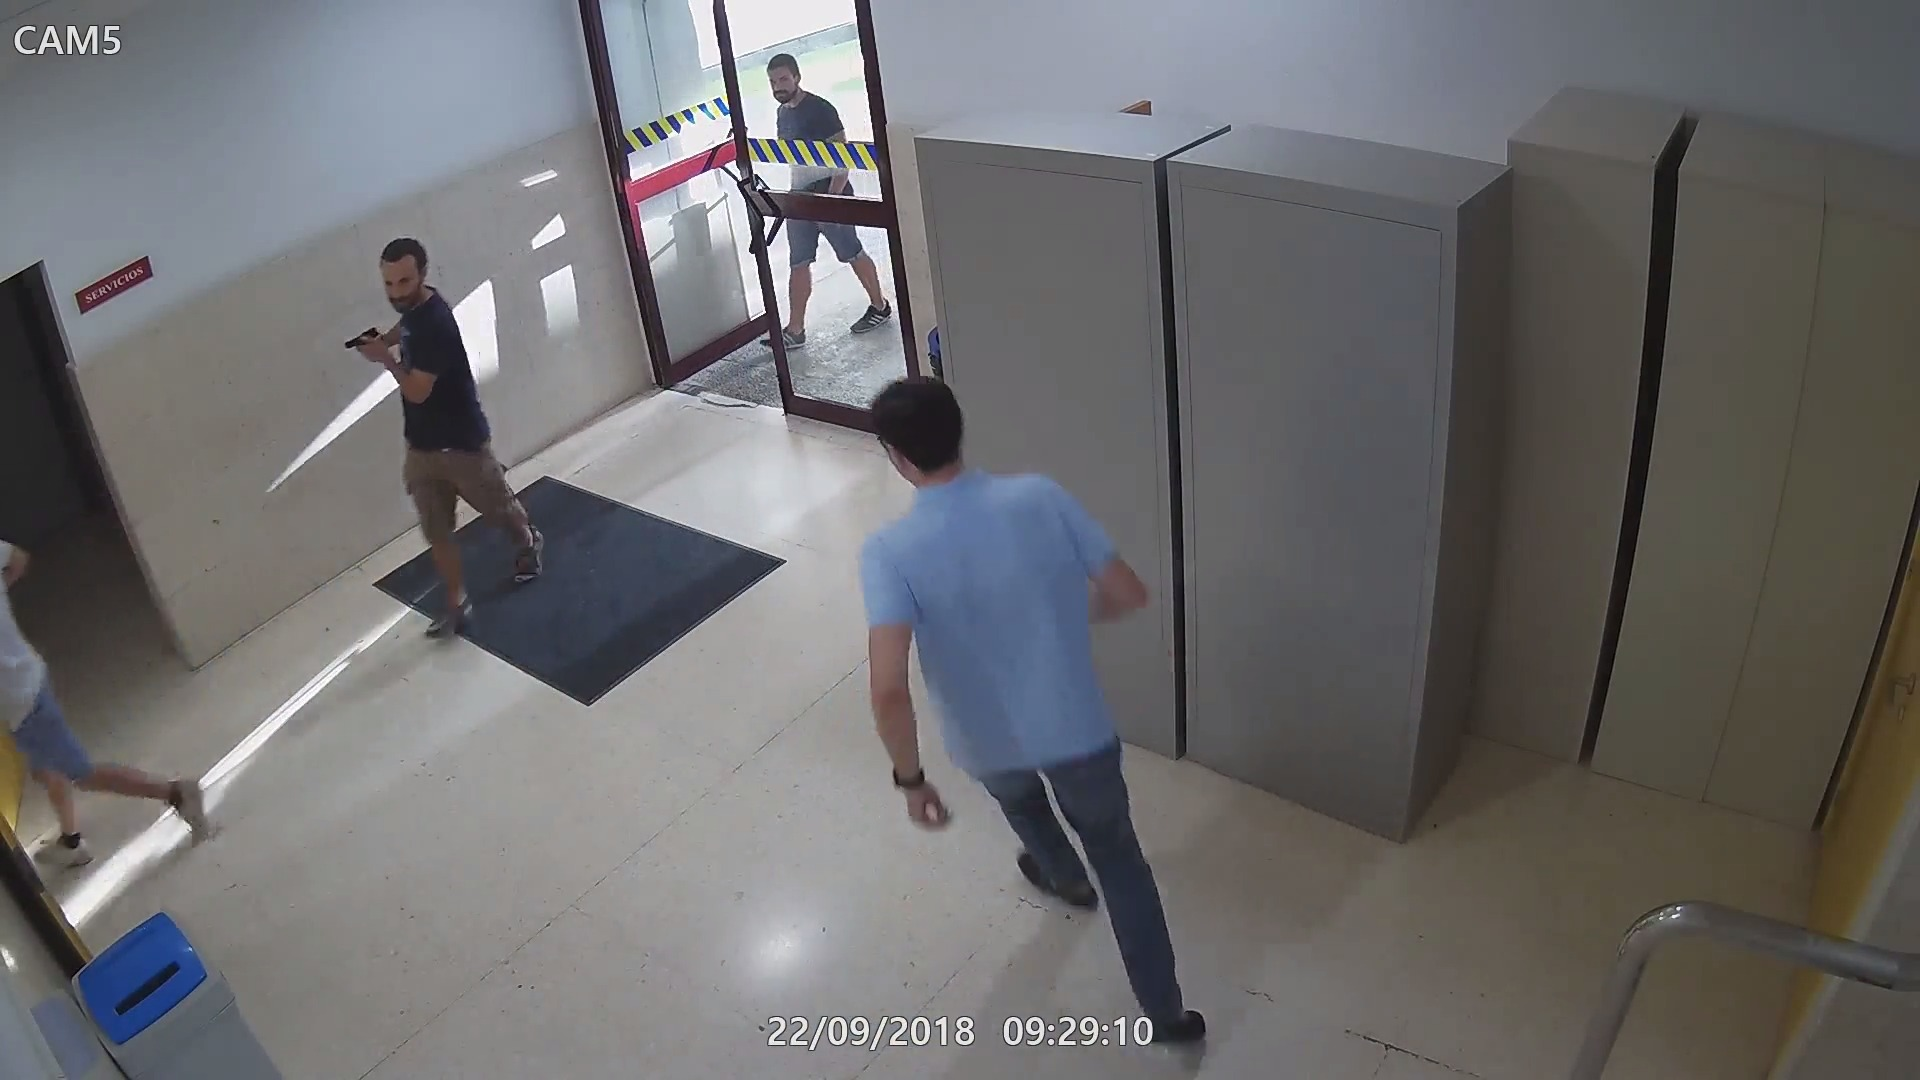Handgun: (342, 323, 388, 364)
